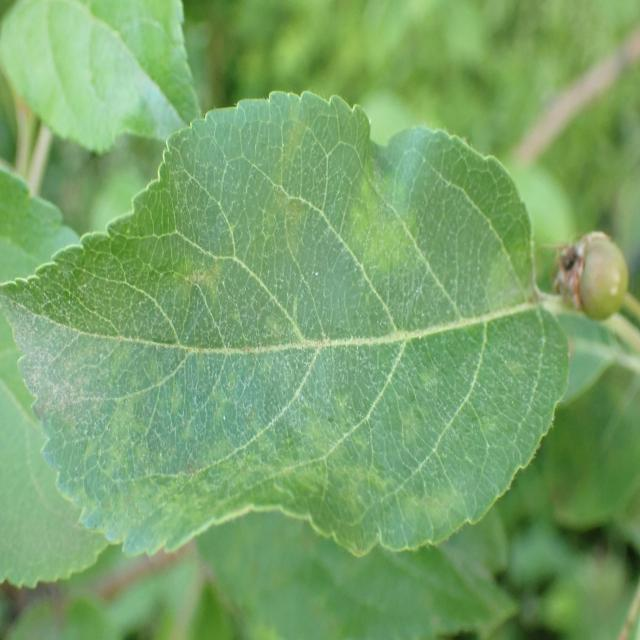scab: (62, 138, 520, 538)
